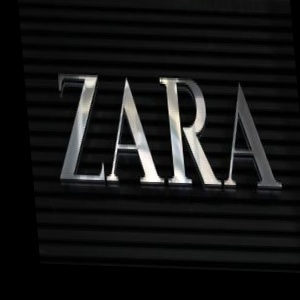zara: (255, 32, 291, 107)
